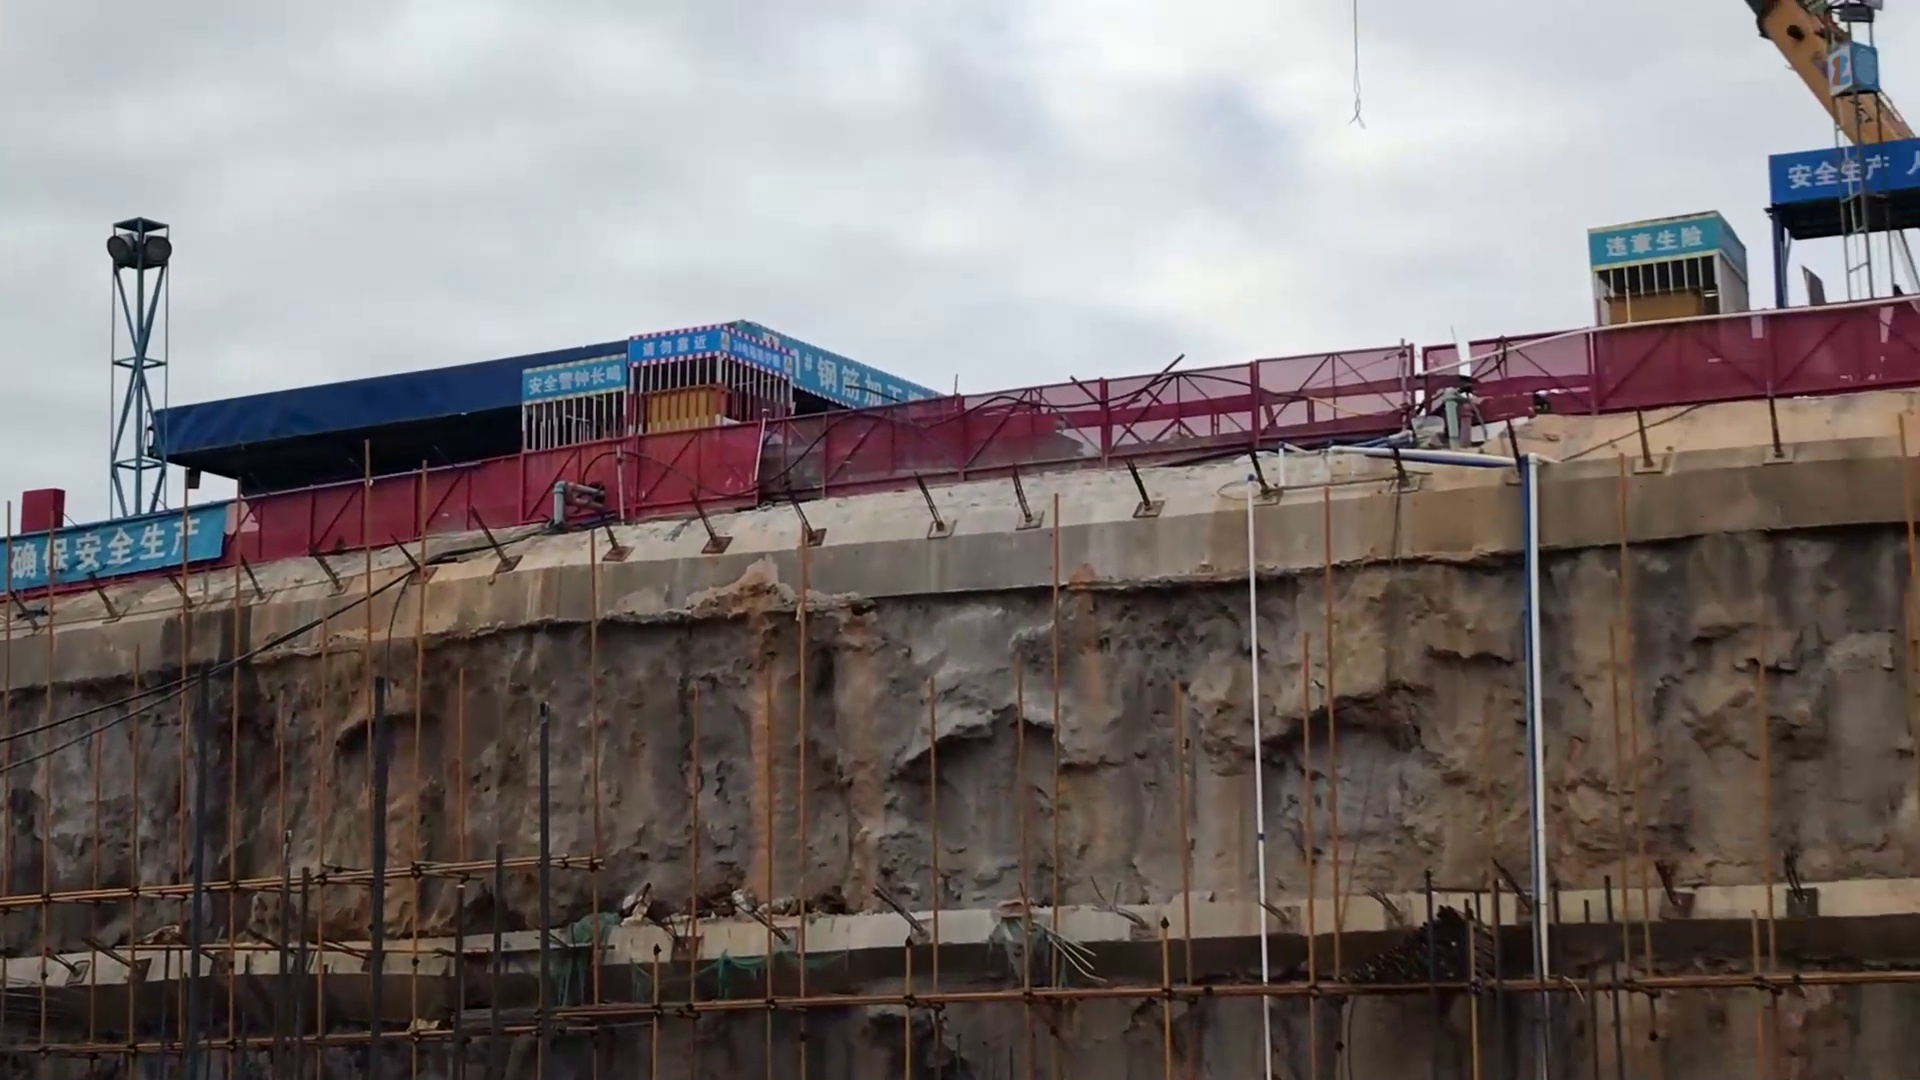fence: (1019, 265, 1920, 508), (236, 443, 737, 584), (719, 398, 1133, 520)
slogan: (1, 487, 253, 589), (1771, 104, 1909, 248), (1594, 212, 1717, 272), (520, 352, 626, 419), (636, 316, 717, 382), (723, 330, 791, 400)
